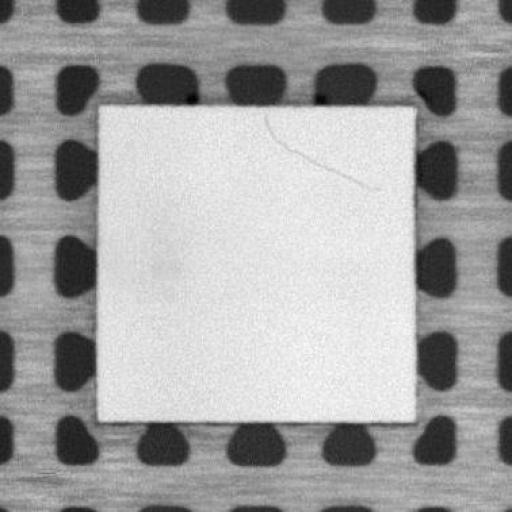DIE_CRACK: (257, 115, 371, 193)
